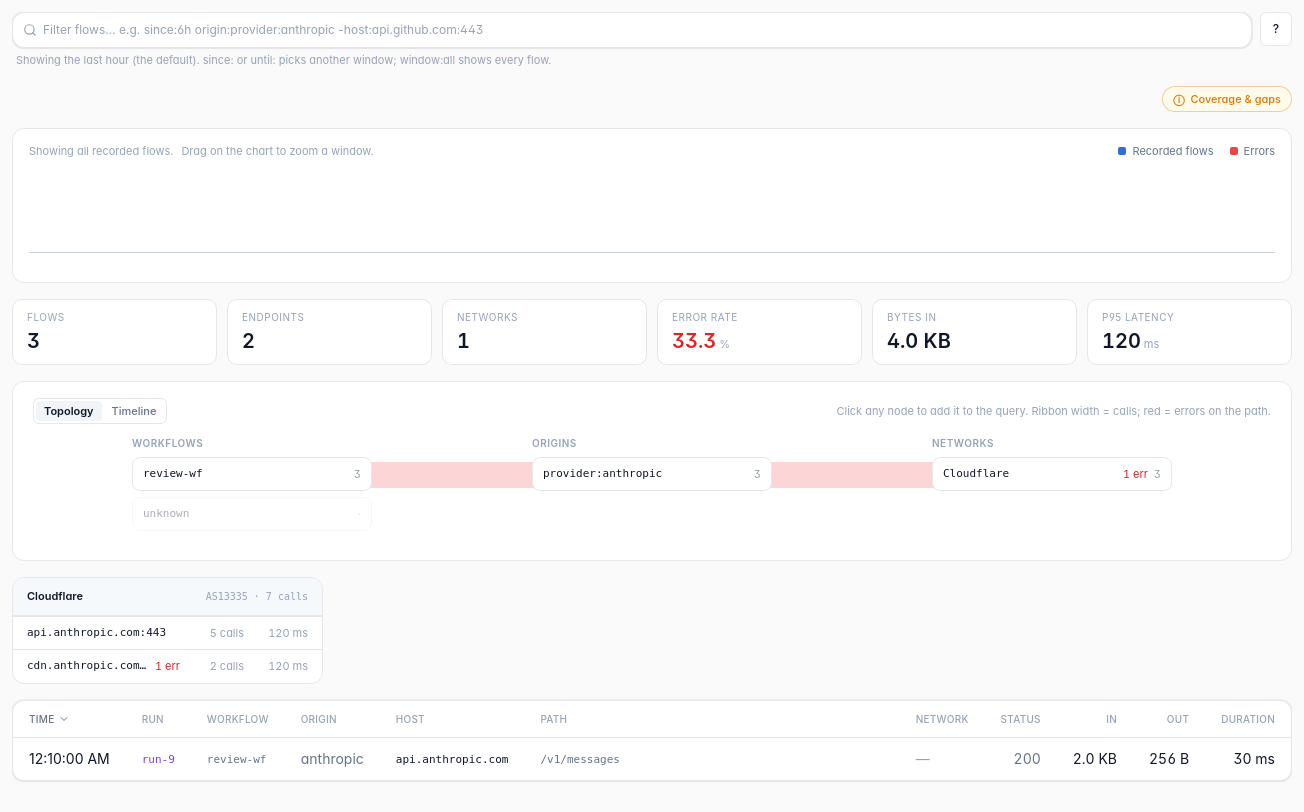
Test case: NetflowExplorer: the query › switches to the Timeline view (lanes + zoomable cells) and back
Expected: the text "Workflows" is shown, [132, 437, 203, 449]
Click the button "Timeline".
click(134, 411)  # box [104, 400, 164, 421]
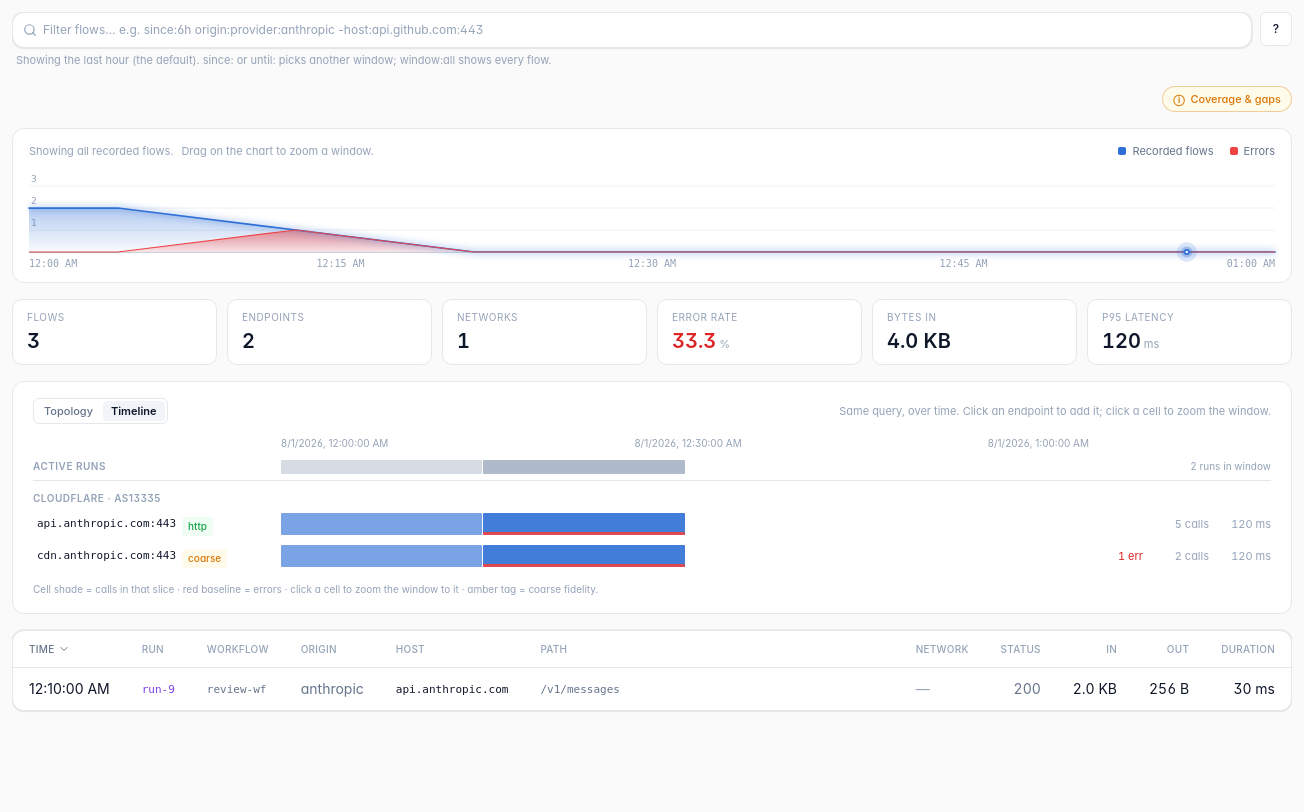
Expected: the text "api.anthropic.com:443" is shown, [37, 516, 176, 532]
Expected: the text "2 runs in window" is shown, [1191, 460, 1271, 472]
Expected: the text "AS13335 ·" is gone
